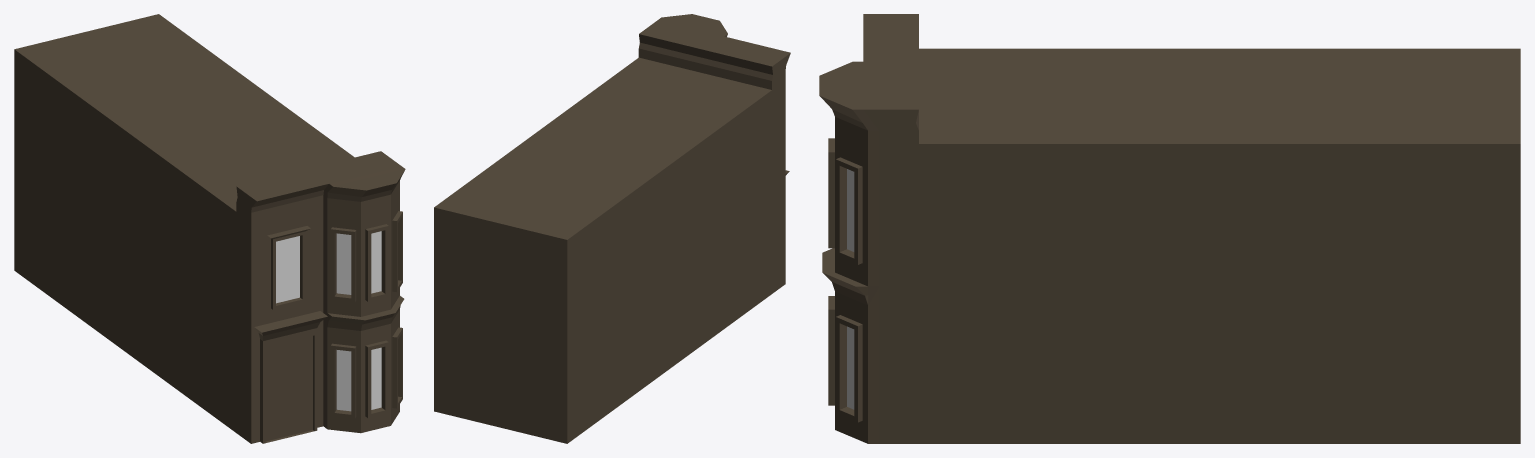
File: SF_house_brown.fbx
The picture shows the model from 3 angles, left to right: view 1: azimuth 30°, elevation 25°; view 2: azimuth 150°, elevation 25°; view 3: azimuth 270°, elevation 25°; orthographic projection. The views are drawn at different scales.
Visible parts, largest first — view 1: Cube.002; view 2: Cube.002; view 3: Cube.002.
Boxes of the visible parts, x1=… form: Cube.002: x1=14, y1=14, x2=405, y2=443; Cube.002: x1=434, y1=14, x2=790, y2=443; Cube.002: x1=819, y1=14, x2=1520, y2=443.
Bounding box in the file's own units: 297 × 484 × 920.
